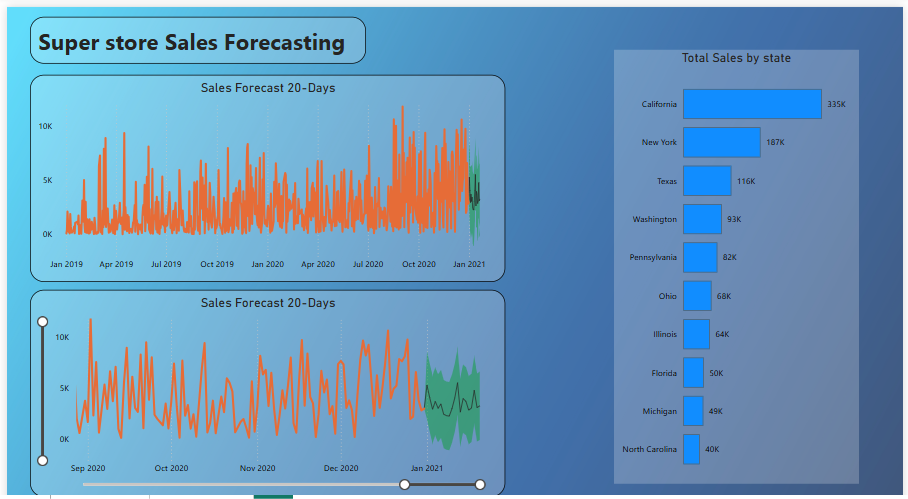

What the dashboard file says about the page in this screenshot:
{"tool":"powerbi","page":{"name":"Forecasting","canvas":[1280,720],"ordinal":1},"visuals":[{"type":"lineChart","title":"Sales Forecast 20-Days","fields":{"Y":["Sum(SuperStore_Sales_Dataset.Sales)"],"Category":["SuperStore_Sales_Dataset.Order Date.Variation.Date Hierarchy.Year","SuperStore_Sales_Dataset.Order Date.Variation.Date Hierarchy.Quarter","SuperStore_Sales_Dataset.Order Date.Variation.Date Hierarchy.Month","SuperStore_Sales_Dataset.Order Date.Variation.Date Hierarchy.Day"]},"box":[32.9,97.1,678.6,295.7],"z":0},{"type":"lineChart","title":"Sales Forecast 20-Days","fields":{"Y":["Sum(SuperStore_Sales_Dataset.Sales)"],"Category":["SuperStore_Sales_Dataset.Order Date.Variation.Date Hierarchy.Year","SuperStore_Sales_Dataset.Order Date.Variation.Date Hierarchy.Quarter","SuperStore_Sales_Dataset.Order Date.Variation.Date Hierarchy.Month","SuperStore_Sales_Dataset.Order Date.Variation.Date Hierarchy.Day"]},"box":[32.9,404.3,678.6,295.7],"z":1000},{"type":"textbox","box":[32.9,14.3,480,67.1],"z":2000},{"type":"barChart","title":"Total Sales by state","fields":{"Y":["Sum(SuperStore_Sales_Dataset.Sales)"],"Category":["SuperStore_Sales_Dataset.State"]},"box":[867.1,61.4,350,620],"z":3000}]}

Visuals, with their boxes in screenshot pixels (x1, y1, x2, y2), scaled from the page's 1280x720 canvas onto the 908x499 screenshot:
"Sales Forecast 20-Days" lineChart: [left=23, top=67, right=505, bottom=272]
"Sales Forecast 20-Days" lineChart: [left=23, top=280, right=505, bottom=485]
textbox: [left=23, top=10, right=364, bottom=56]
"Total Sales by state" barChart: [left=615, top=43, right=863, bottom=472]
